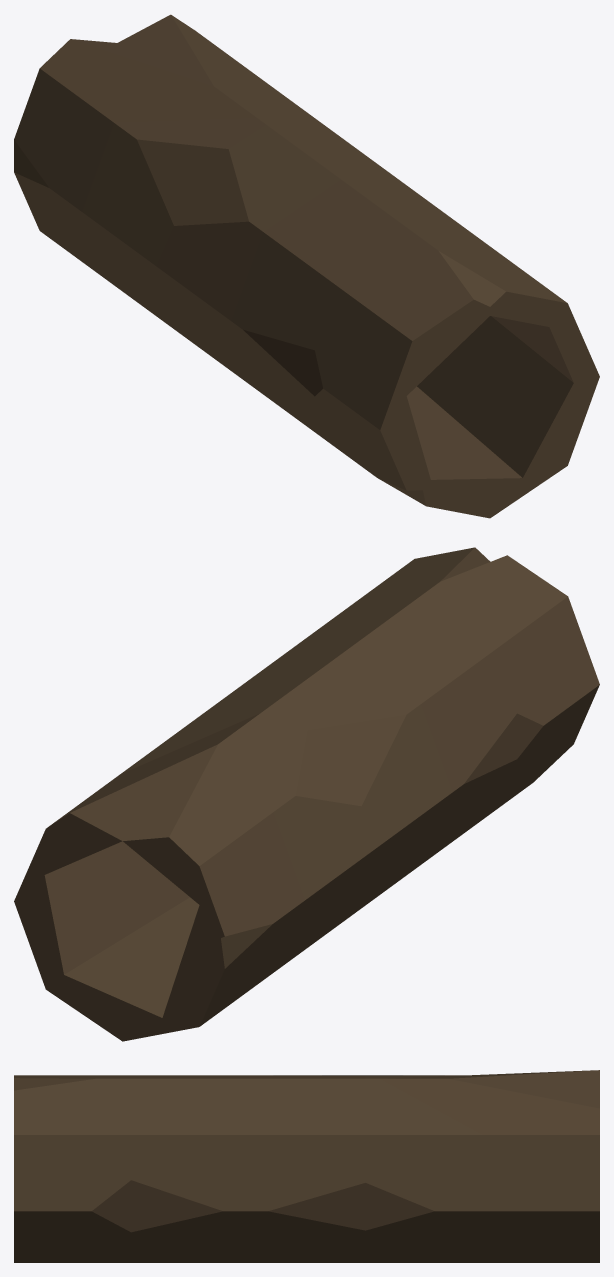
Rendered from Log.fbx.
The picture shows the model from 3 angles, top to bottom: view 1: azimuth 30°, elevation 25°; view 2: azimuth 150°, elevation 25°; view 3: azimuth 270°, elevation 25°; orthographic projection. The views are drawn at different scales.
Visible parts, largest first — view 1: Log; view 2: Log; view 3: Log.
Part boxes in pixels (x1,y1,x2,y2): Log: (14,14,599,518); Log: (14,547,599,1041); Log: (14,1070,599,1262).
Bounding box in the file's own units: 59.17 × 59.17 × 174.
